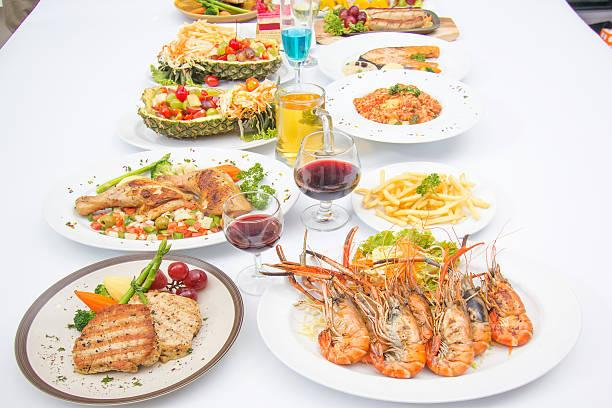Braised Crucian Carp: (254, 249, 579, 403), (14, 254, 240, 405), (41, 148, 295, 253), (324, 70, 478, 145), (351, 161, 500, 238)
